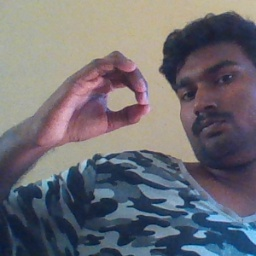O: (40, 47, 153, 144)
